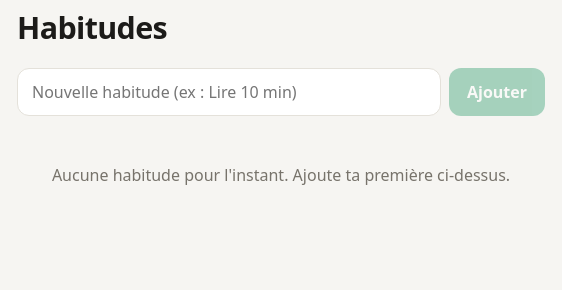
Test: App › adds a habit, checks today and persists it
Type "Lire" into the field labelled "Nouvelle habitude" at (229, 92), box [17,68,441,116]
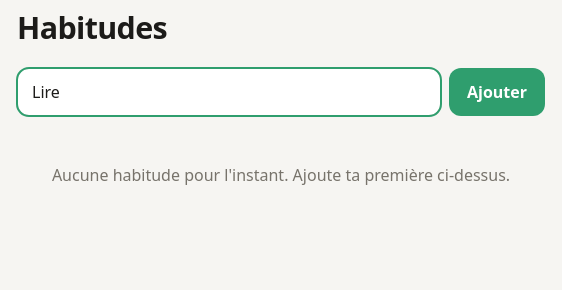
Click the button "Ajouter" at (497, 92), box [449,68,545,116]
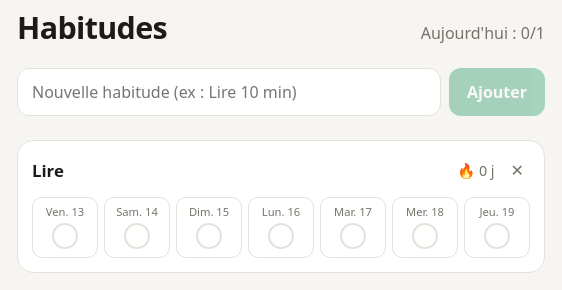
Check: the heading "Lire" is shown, box [32,158,64,182]
Check: the text "Aujourd'hui : 0/1" is shown, box [421,22,545,44]
Check: the number of buttons named "Lire, " is 7
Click the button with aria-label "Lire, " at (497, 228), box [464,197,530,258]
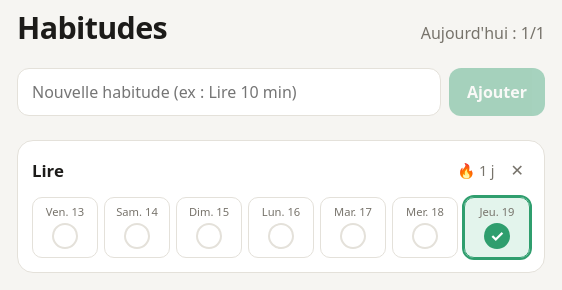
Check: the text "Aujourd'hui : 1/1" is shown, box [421,22,545,44]
Check: the text "🔥 1 j" is shown, box [457,160,495,180]
